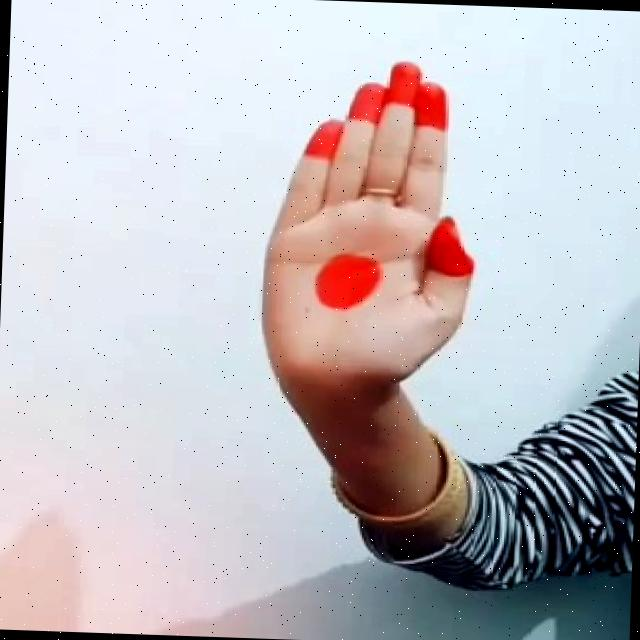Pataka: (239, 46, 520, 405)
bangle: (302, 417, 489, 537)
